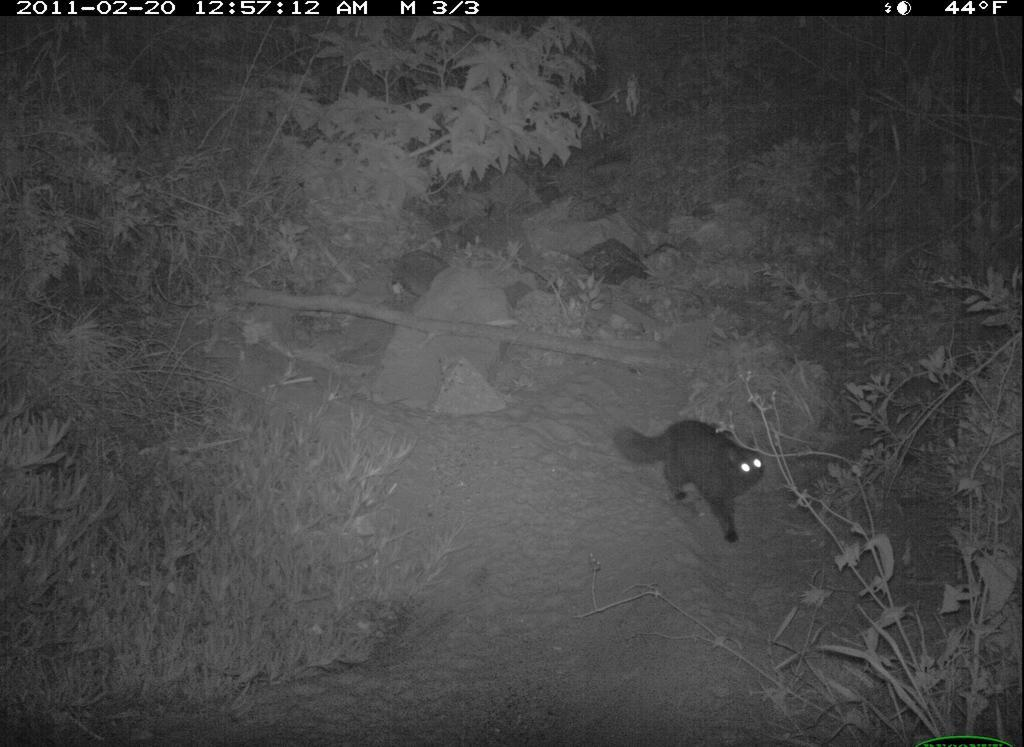cat: (606, 401, 776, 552)
